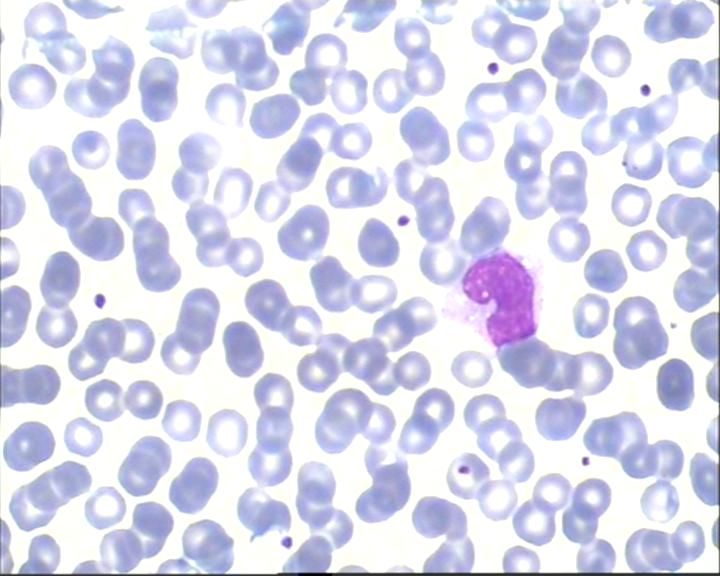mono: (441, 248, 552, 345)
